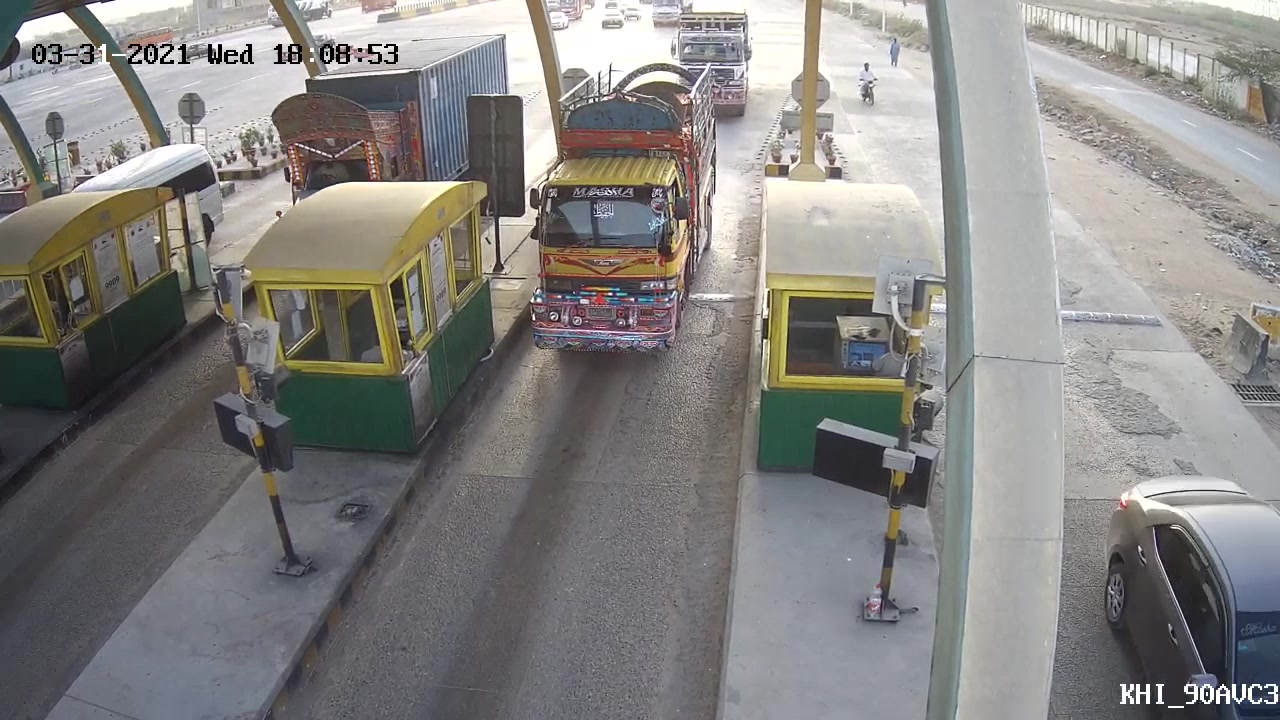F5: (520, 65, 725, 366)
